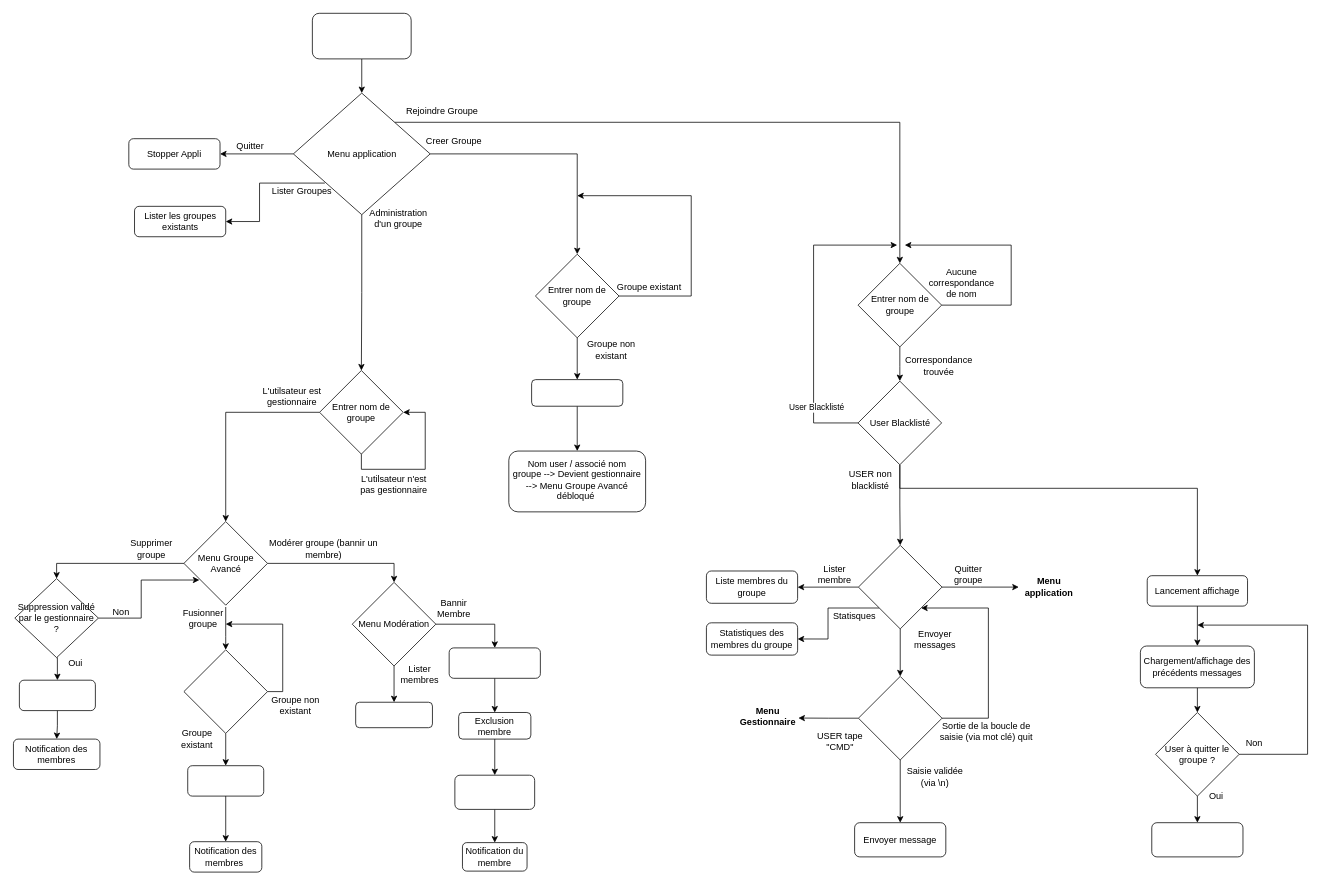
The diagram is 1327 pixels wide and 885 high, and some of its shapes have lost their labels. Each missing label, with the centre of its shape:
Créer nouveau groupe: the point at 577,392
Entrer le nom du deuxième groupe: the point at 225,691
Entrer nom du membre: the point at 494,662
Fusion des deux groupes: the point at 225,780
Lister membres du groupe: the point at 393,714
Menu Groupe: the point at 900,587
MàJ de la blacklist du groupe: the point at 494,791
Saisie de utilisateur: the point at 900,718
Stopper affichage: the point at 1197,839
Suppression du groupe: the point at 57,695
Utilisateur entre son pseudo/nom: the point at 361,36
